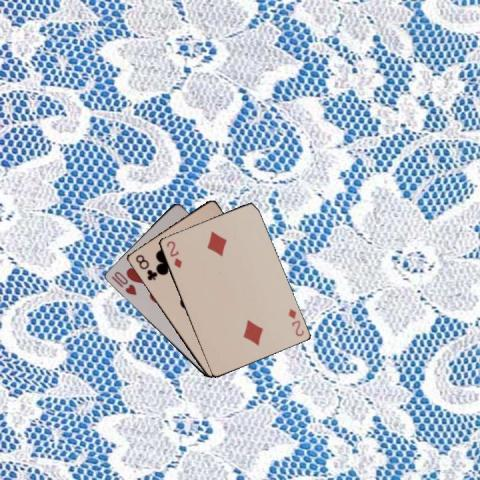10h: (108, 268, 137, 297)
2d: (164, 237, 184, 270), (285, 305, 305, 338)
8c: (132, 251, 158, 282)
